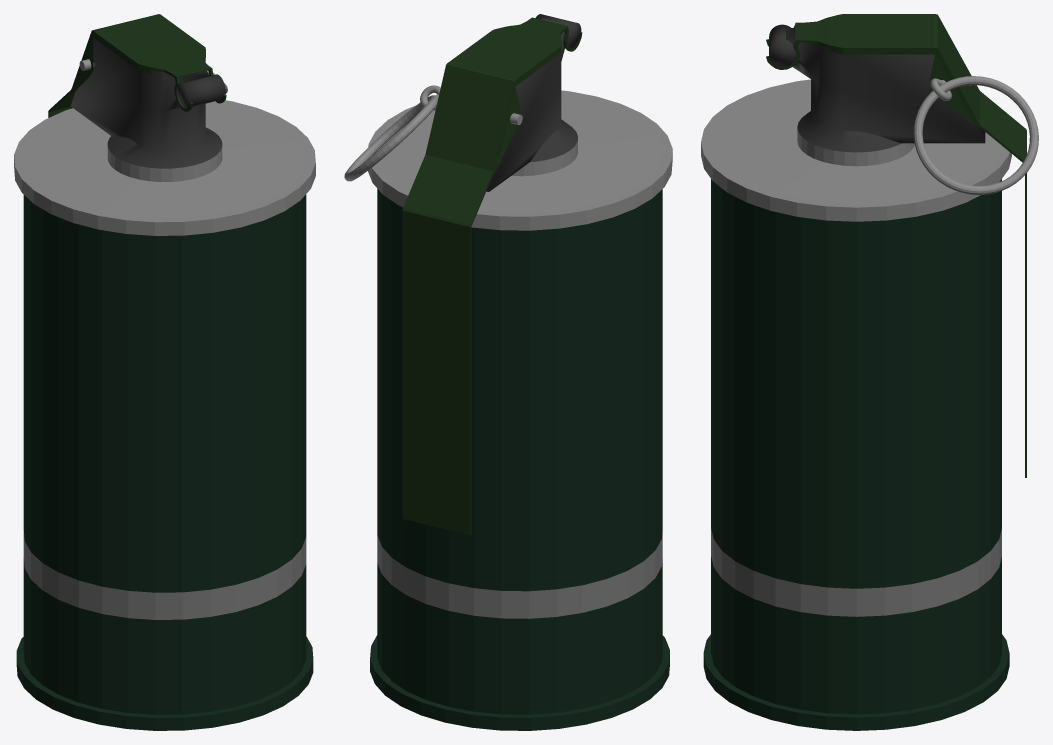
The model's file is SmokeGrenade.glb.
3 views of the same model, side by side, from view 1: azimuth 30°, elevation 25°; view 2: azimuth 150°, elevation 25°; view 3: azimuth 270°, elevation 25° (orthographic). The views are drawn at different scales.
Parts seen in each view (by area): view 1: Circle, Circle.001, Cylinder, Circle.002, Plane; view 2: Circle, Plane, Circle.001, Circle.002, Cylinder, Torus.001; view 3: Circle, Circle.001, Cylinder, Plane, Circle.002, Torus.001.
Boxes of the visible parts, box(x1,y1,x2,y2) form: Circle: box(16, 194, 313, 730); Circle.001: box(14, 100, 315, 235); Cylinder: box(71, 38, 225, 168); Circle.002: box(23, 530, 306, 619); Plane: box(48, 14, 226, 117); Circle: box(370, 189, 669, 730); Plane: box(402, 17, 582, 535); Circle.001: box(368, 90, 672, 230); Circle.002: box(377, 531, 662, 618); Cylinder: box(486, 14, 581, 191); Torus.001: box(344, 85, 522, 181); Circle: box(703, 179, 1009, 730); Circle.001: box(701, 79, 1011, 221); Cylinder: box(769, 24, 985, 152); Plane: box(766, 14, 1026, 477); Circle.002: box(711, 528, 1001, 616); Torus.001: box(913, 76, 1038, 195).
Bounding box in the file's own units: 2.14 × 4.82 × 2.32.
